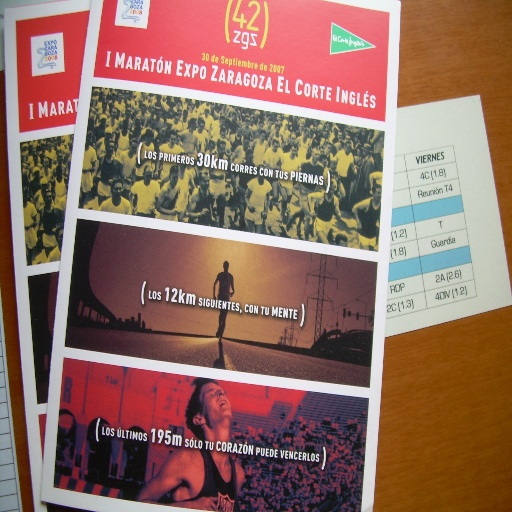hand: (192, 492, 220, 511), (246, 202, 256, 212), (260, 207, 267, 220), (200, 207, 208, 216), (125, 175, 132, 184), (148, 204, 155, 213), (356, 222, 362, 232), (23, 222, 29, 231), (308, 207, 314, 216), (170, 207, 177, 214), (107, 177, 112, 186), (153, 170, 158, 179), (52, 227, 56, 236), (334, 213, 340, 219), (224, 288, 229, 295), (130, 206, 134, 213), (82, 168, 86, 173), (212, 293, 216, 298)
